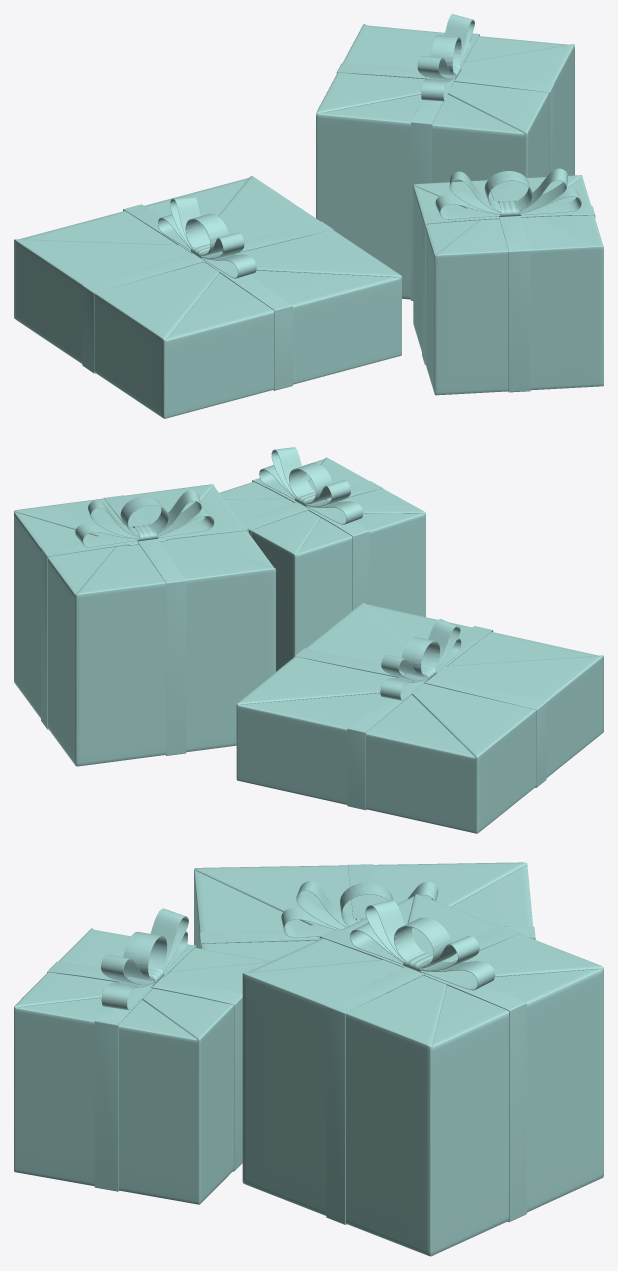
Rendered from Gifts.fbx.
3 views of the same model, one above another, from view 1: azimuth 30°, elevation 25°; view 2: azimuth 150°, elevation 25°; view 3: azimuth 270°, elevation 25° (orthographic). The views are drawn at different scales.
Visible parts, largest first — view 1: cgaxis_models_13_09:cgaxis_models_13_09_01, cgaxis_models_13_09:cgaxis_models_13_09_04, cgaxis_models_13_09:cgaxis_models_13_09_03, cgaxis_models_13_09:cgaxis_models_13_09_02; view 2: cgaxis_models_13_09:cgaxis_models_13_09_01, cgaxis_models_13_09:cgaxis_models_13_09_02, cgaxis_models_13_09:cgaxis_models_13_09_04, cgaxis_models_13_09:cgaxis_models_13_09_03; view 3: cgaxis_models_13_09:cgaxis_models_13_09_01, cgaxis_models_13_09:cgaxis_models_13_09_02, cgaxis_models_13_09:cgaxis_models_13_09_03, cgaxis_models_13_09:cgaxis_models_13_09_04.
Boxes of the visible parts, x1,y1,x2,y2 form: cgaxis_models_13_09:cgaxis_models_13_09_01: (14, 24, 603, 418); cgaxis_models_13_09:cgaxis_models_13_09_04: (82, 196, 333, 390); cgaxis_models_13_09:cgaxis_models_13_09_03: (422, 168, 595, 392); cgaxis_models_13_09:cgaxis_models_13_09_02: (336, 14, 554, 300); cgaxis_models_13_09:cgaxis_models_13_09_01: (14, 457, 603, 833); cgaxis_models_13_09:cgaxis_models_13_09_02: (41, 490, 248, 755); cgaxis_models_13_09:cgaxis_models_13_09_04: (294, 619, 546, 810); cgaxis_models_13_09:cgaxis_models_13_09_03: (242, 447, 382, 609); cgaxis_models_13_09:cgaxis_models_13_09_01: (14, 862, 603, 1256); cgaxis_models_13_09:cgaxis_models_13_09_02: (319, 900, 526, 1224); cgaxis_models_13_09:cgaxis_models_13_09_03: (47, 908, 242, 1191); cgaxis_models_13_09:cgaxis_models_13_09_04: (199, 864, 535, 948).
Size of the model in its own units: 21.79 by 8.83 by 18.09.
